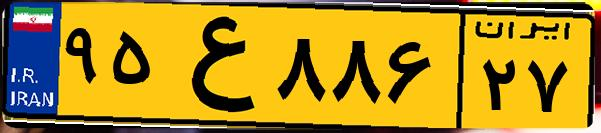2: (475, 38, 525, 113)
5: (110, 28, 158, 98)
6: (385, 28, 445, 110)
7: (525, 38, 570, 115)
8: (270, 28, 330, 110), (330, 28, 385, 110)
9: (57, 26, 110, 100)
ع: (158, 12, 270, 120)
